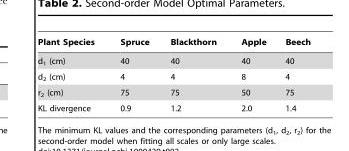table: (37, 37, 310, 112)
table column: (37, 37, 106, 112), (159, 37, 228, 112), (106, 37, 159, 112), (228, 37, 275, 112), (275, 37, 310, 112)
table column header: (37, 37, 310, 51)
table row: (37, 51, 310, 68), (37, 68, 310, 84), (37, 84, 310, 100), (37, 37, 310, 51), (37, 100, 310, 112)
